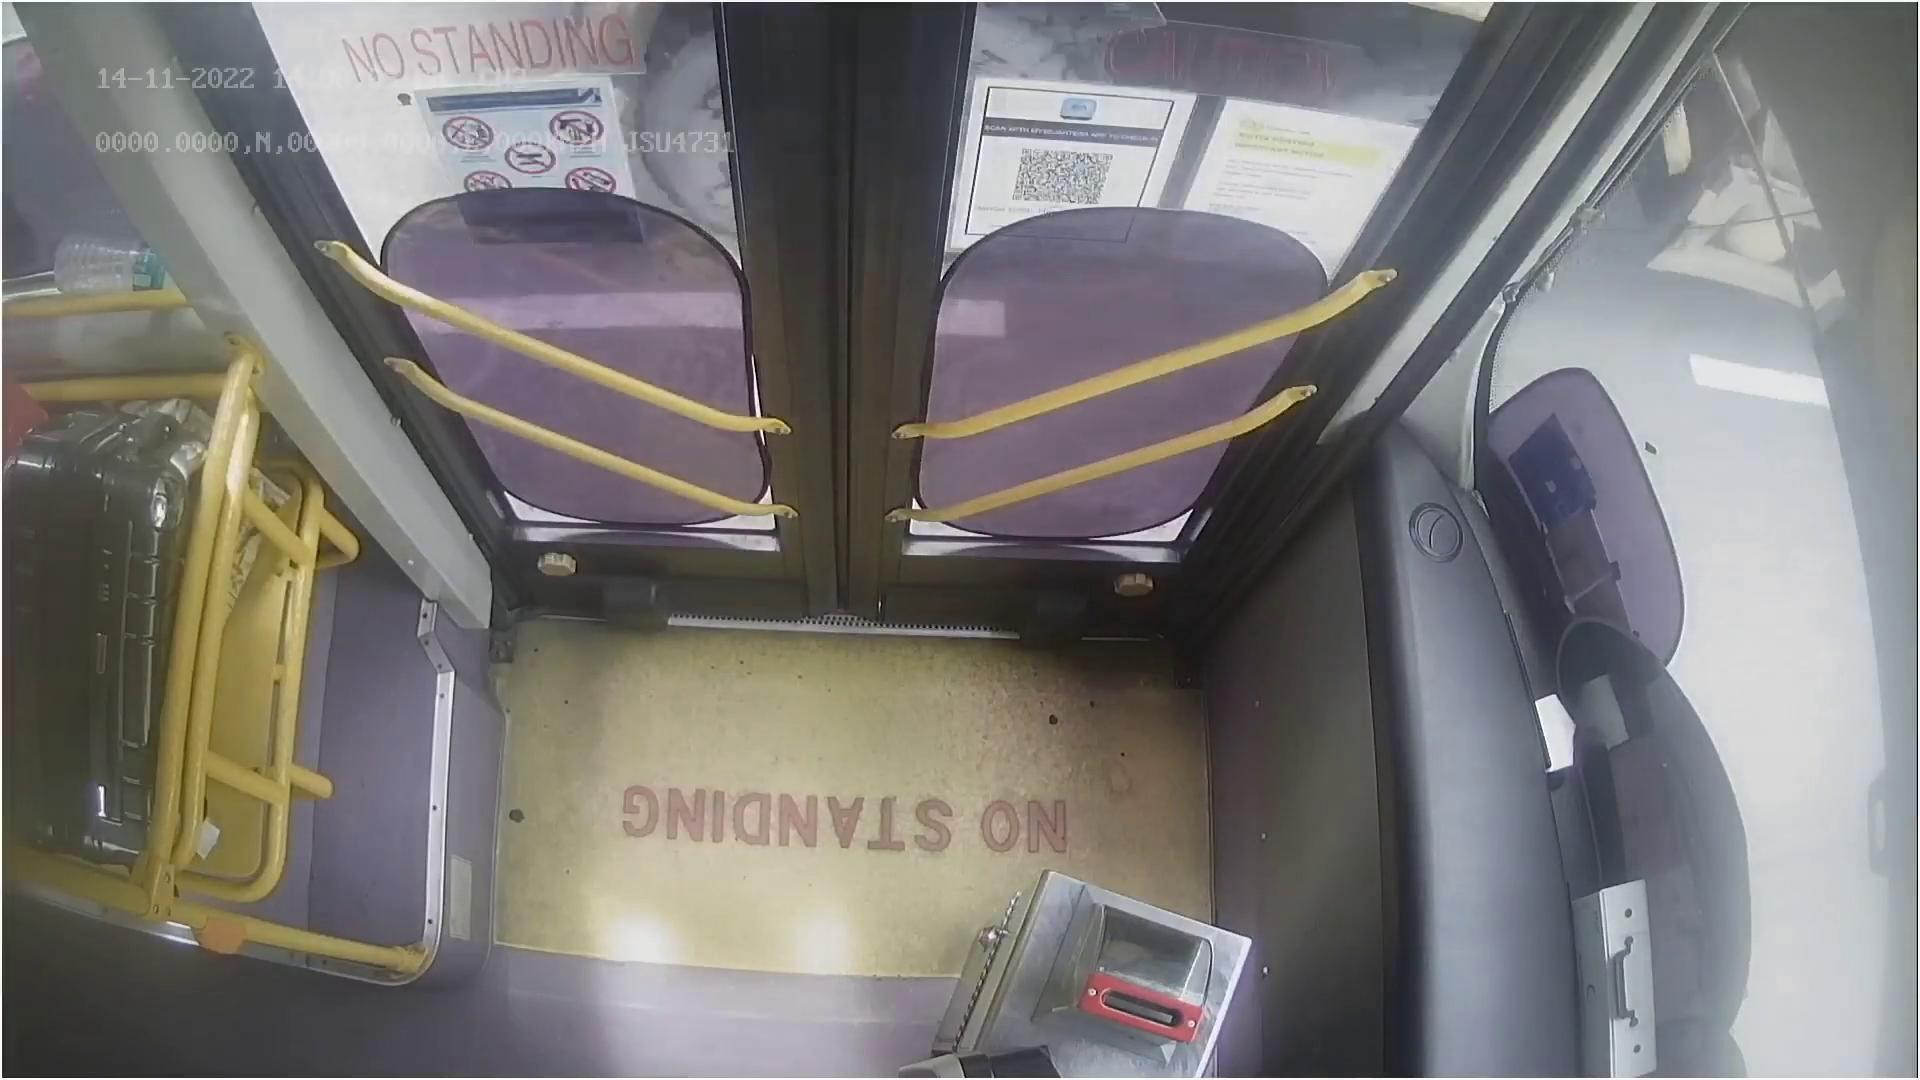close: (284, 0, 1435, 173)
